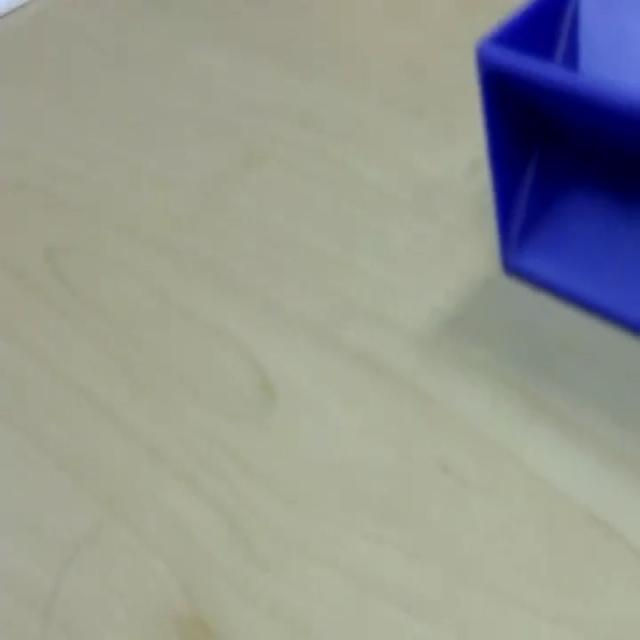blue_block: (474, 0, 638, 335)
